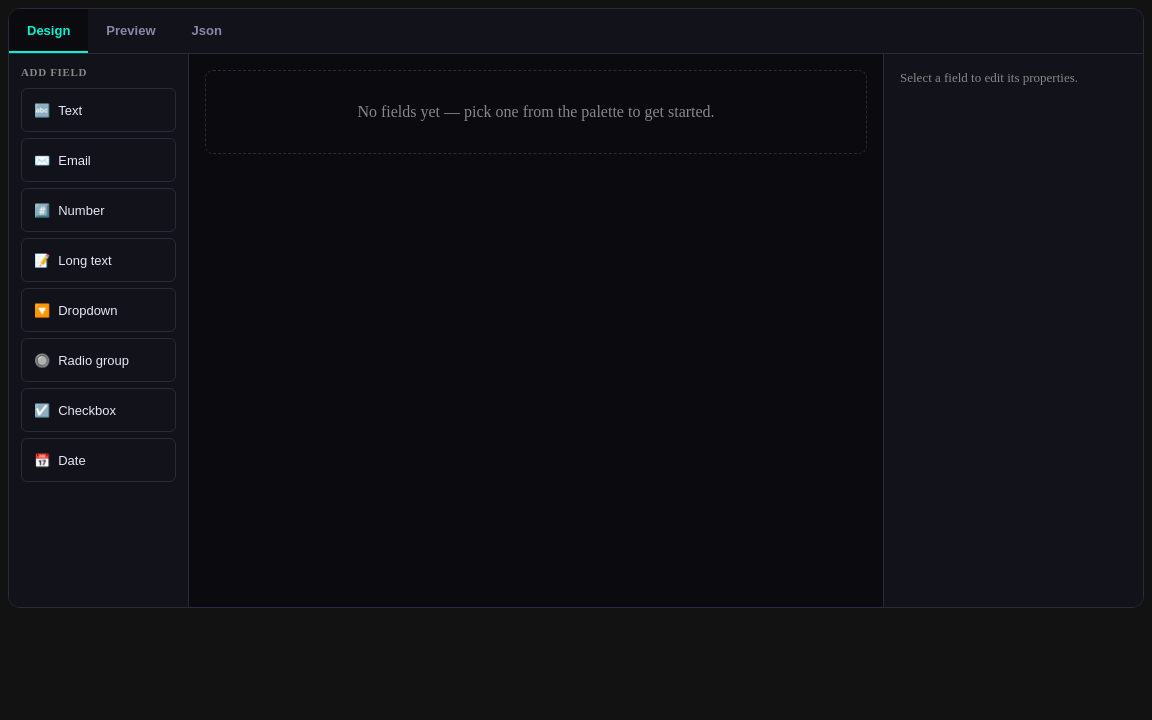
it: TkxFormBuilder › appends a field when clicking the palette
What coordinates should you click on to do the following:
click the button with test id "palette-text"
I would click on:
 (98, 110)
Its box is left=21, top=88, right=176, bottom=132.
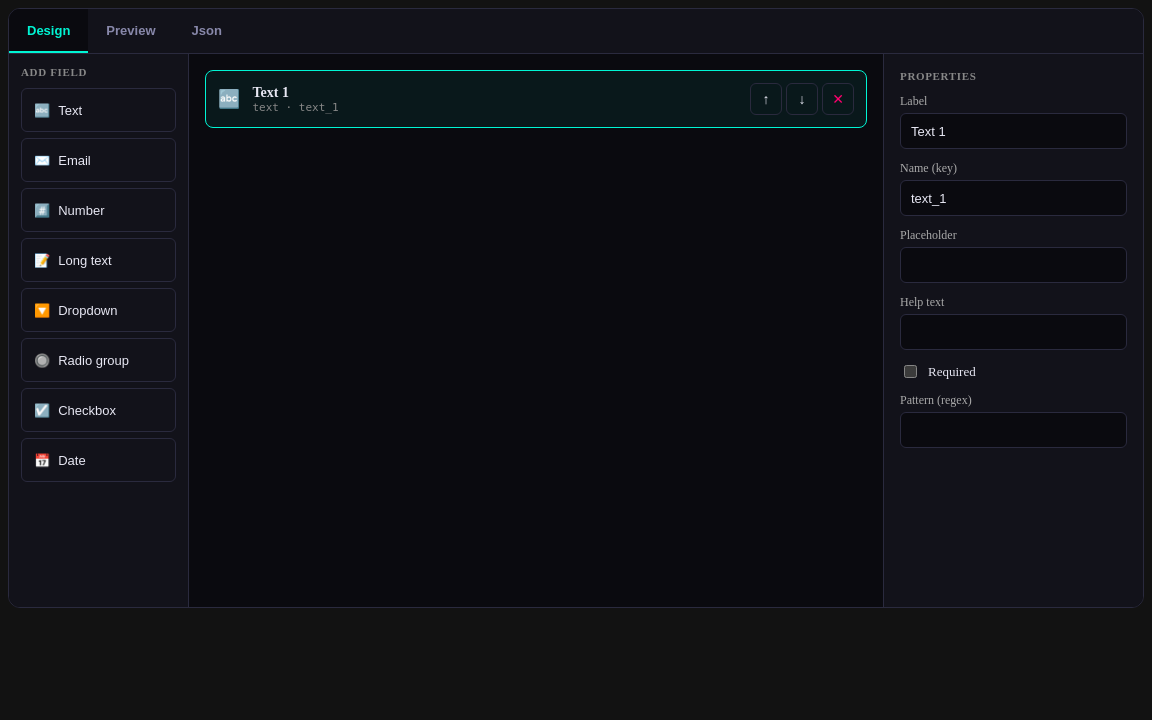
expect the text "Text 1" is shown: met, box left=252, top=84, right=289, bottom=100
